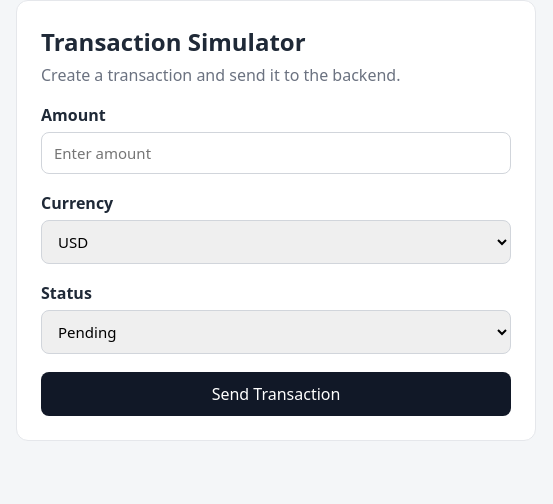
Test: AddTransactionPage › should show error message when backend request fails
Type "100" into the number field labelled "Amount" at (276, 153), box [41,132,511,174]
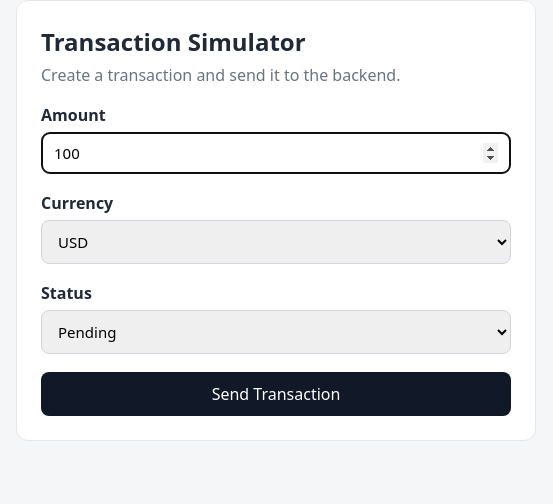
Click the button "Send Transaction" at (276, 394), box [41,372,511,416]
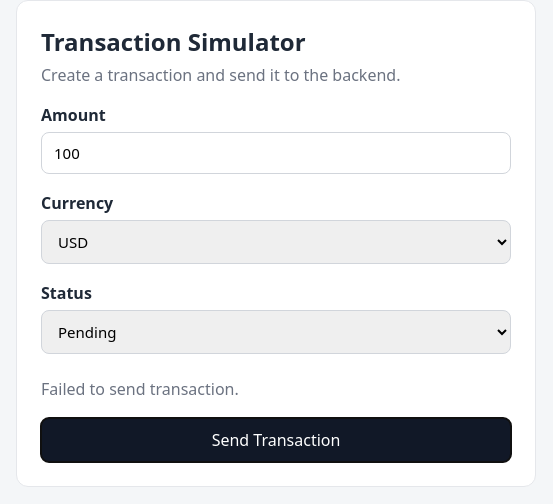
Result: the message reads "Failed to send transaction." at [41,378,239,400]
